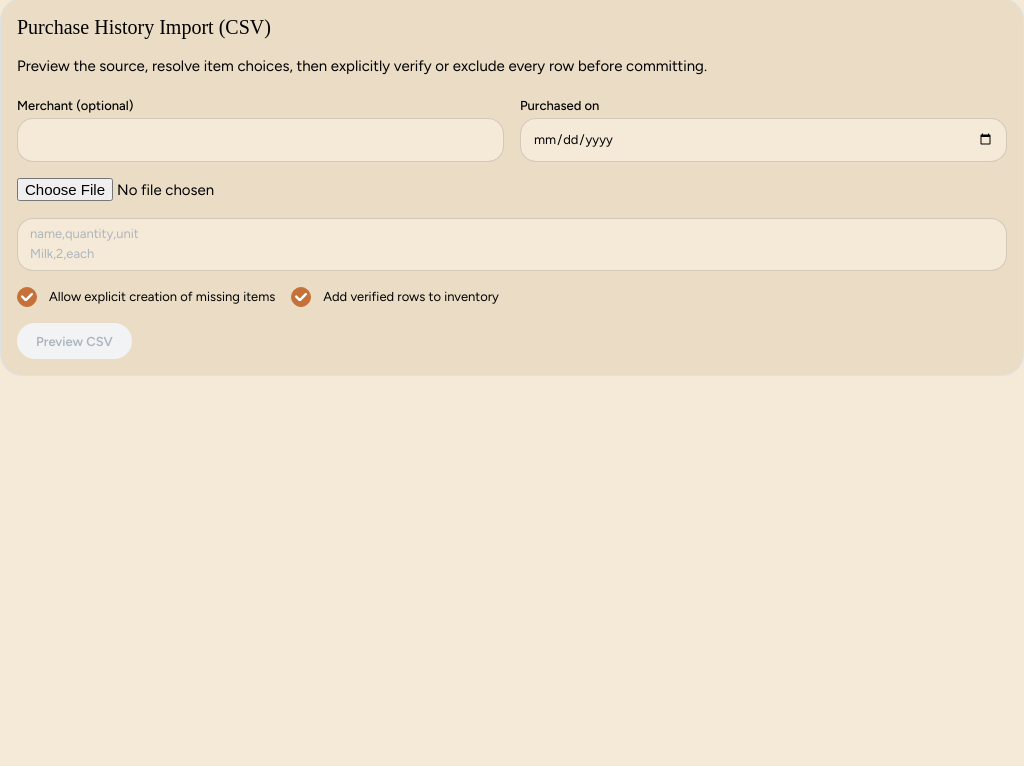
Test: Reviewed purchase CSV › shows invalid and return source quantities rather than positive defaults
The image size is (1024, 766).
In the text box named "Purchase CSV text": {"x": 512, "y": 244} [17,218,1007,271], type "original CSV"
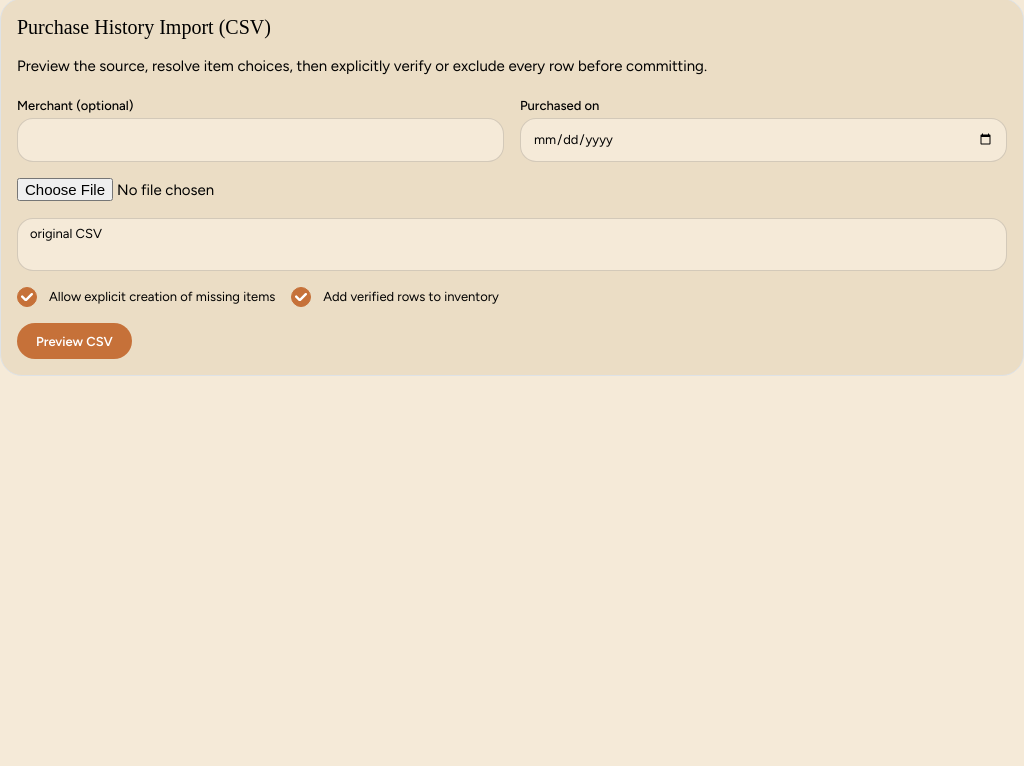
Click the button "Preview CSV": {"x": 74, "y": 341} [17,323,132,359]
(page scrolled)
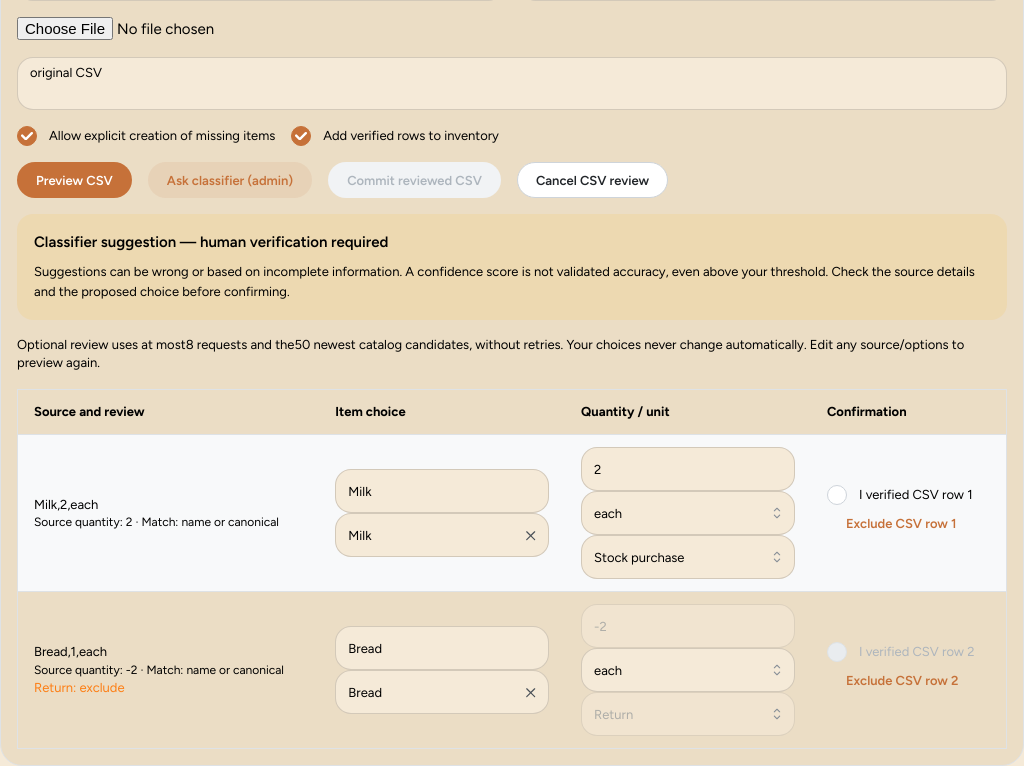
Expected: the checkbox labelled "I verified CSV row 2" is disabled, [827,642,847,662]
Expected: the field named "CSV item name 1" is shown, [335,469,549,513]
Expected: the field named "CSV quantity 2" holds "-2", [581,604,795,648]
Click the button "Exclude CSV row 2": {"x": 902, "y": 680} [827,662,977,698]
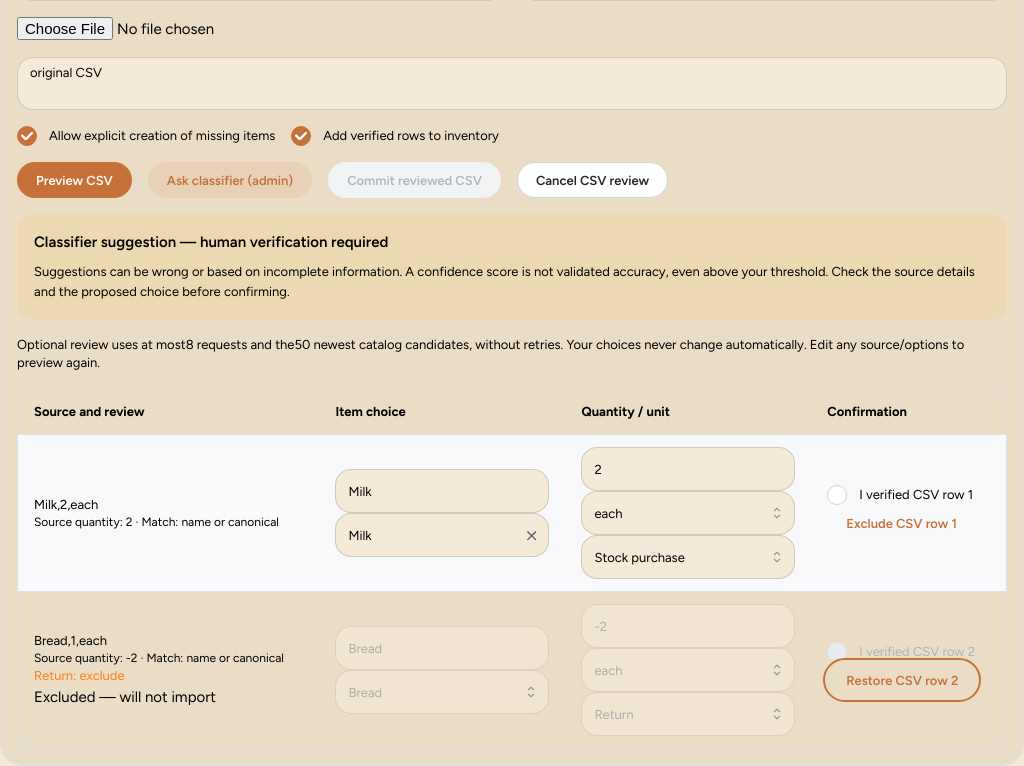
Click the checkbox labelled "I verified CSV row 1": {"x": 837, "y": 495} [827,485,847,505]
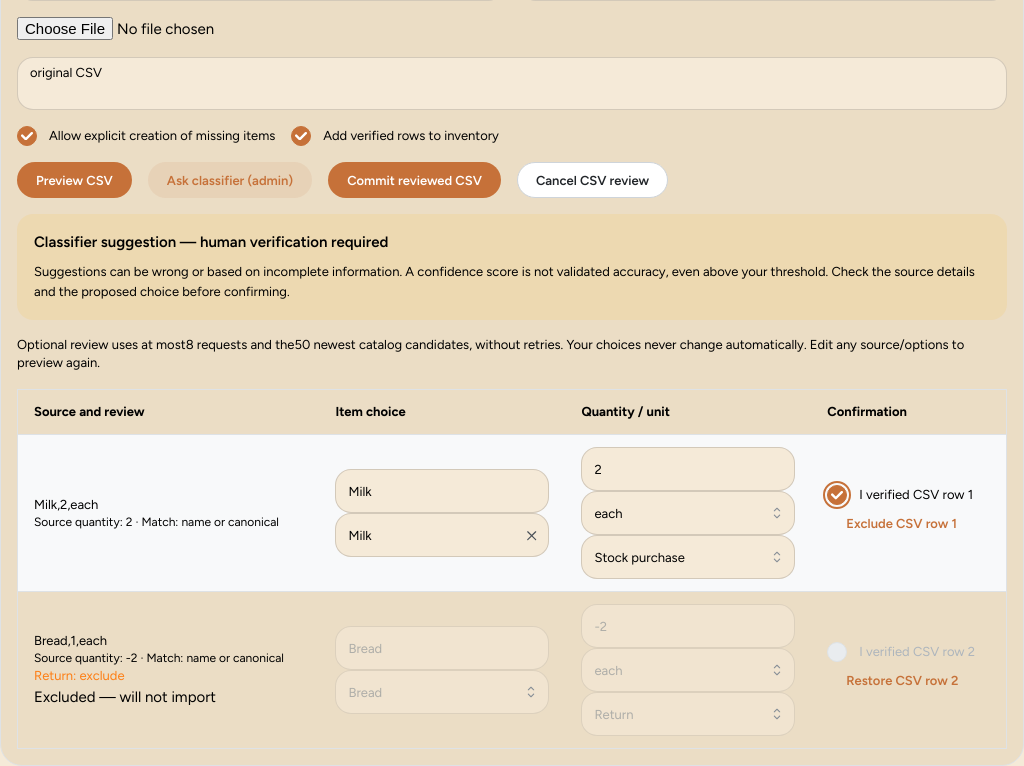
Expected: the button "Commit reviewed CSV" is enabled, [328,162,501,198]
